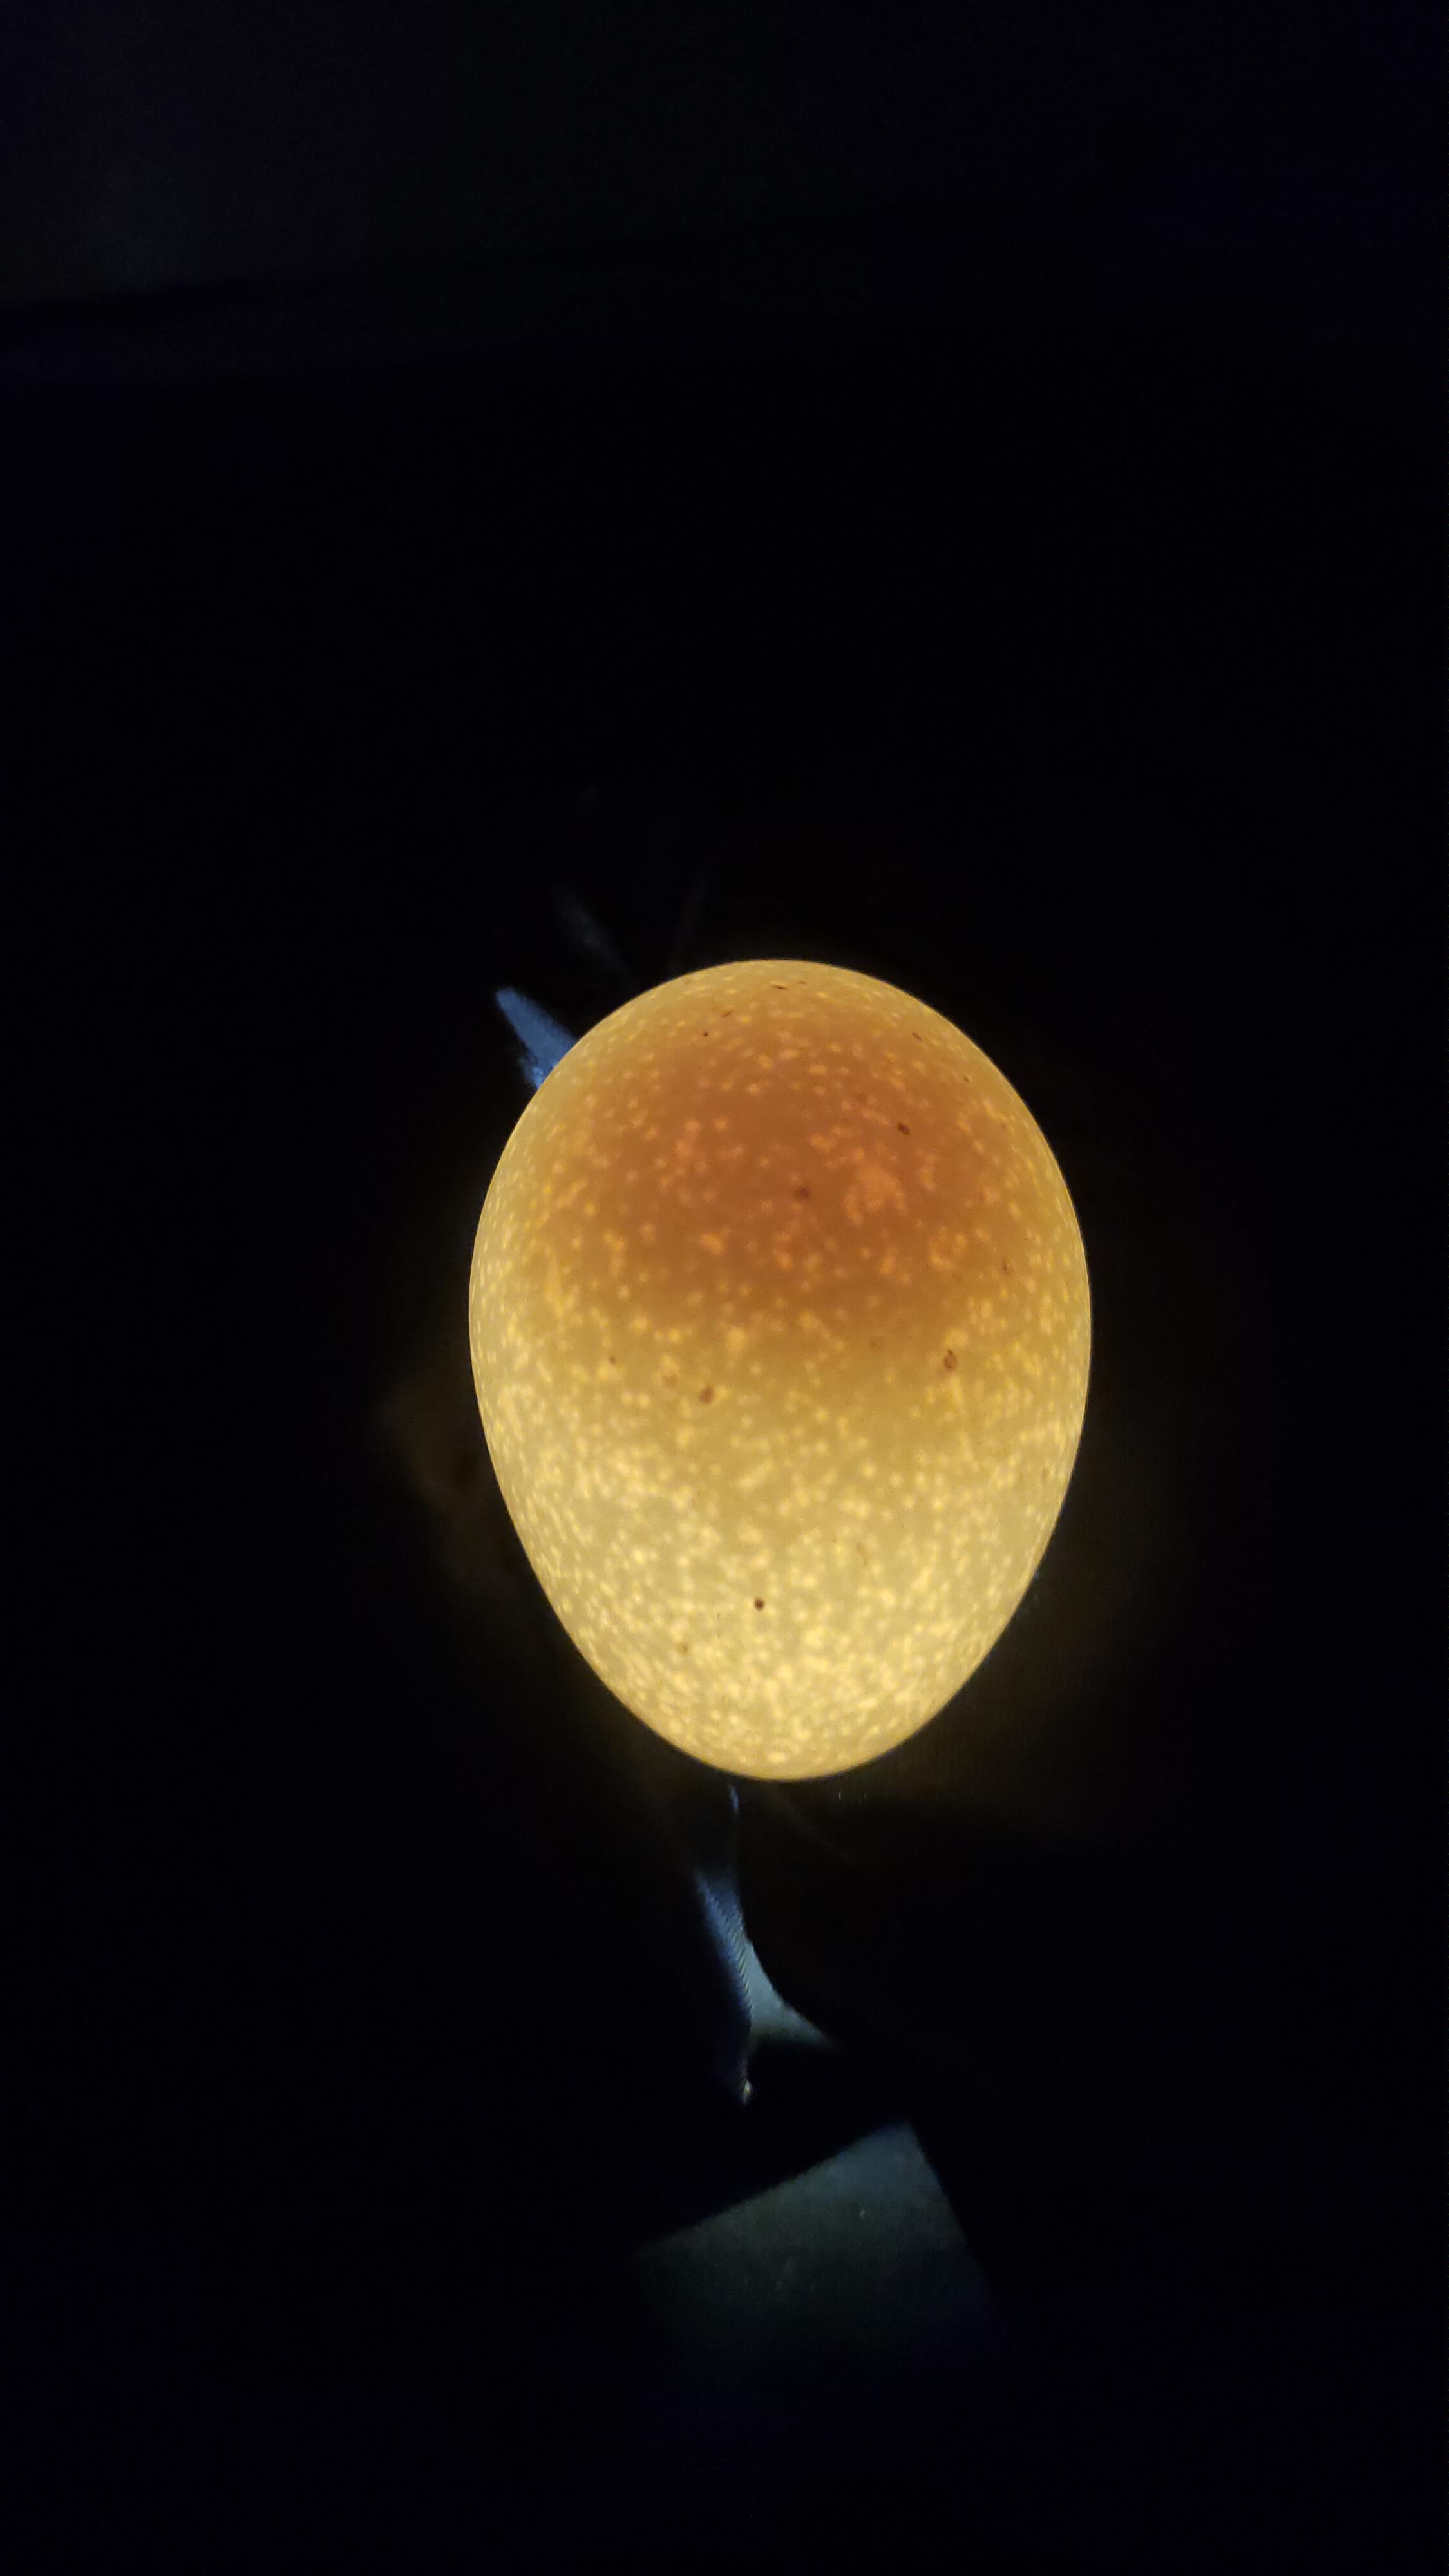Inedible: (469, 957, 1092, 1780)
